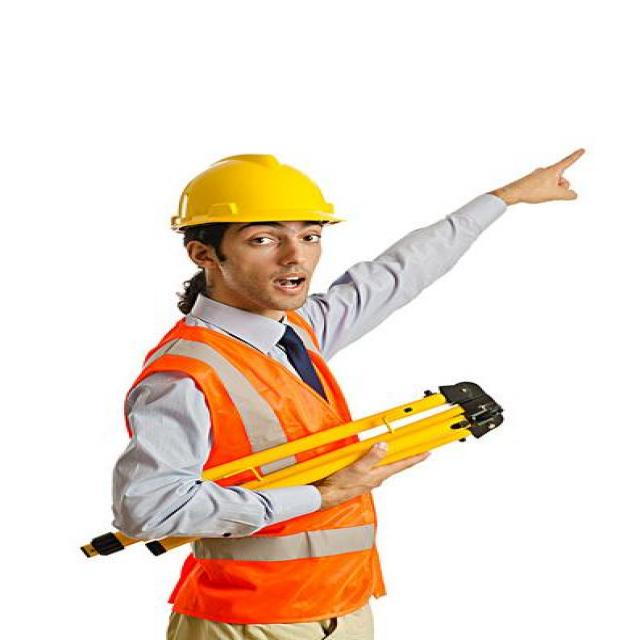Reflective-Jacket: (135, 307, 384, 628)
Safety-Helmet: (164, 149, 345, 235)
